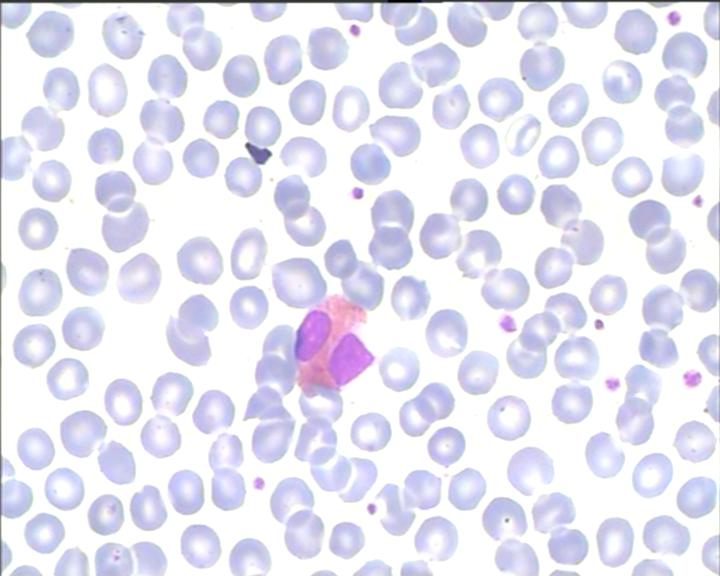eosi: (290, 290, 377, 397)
